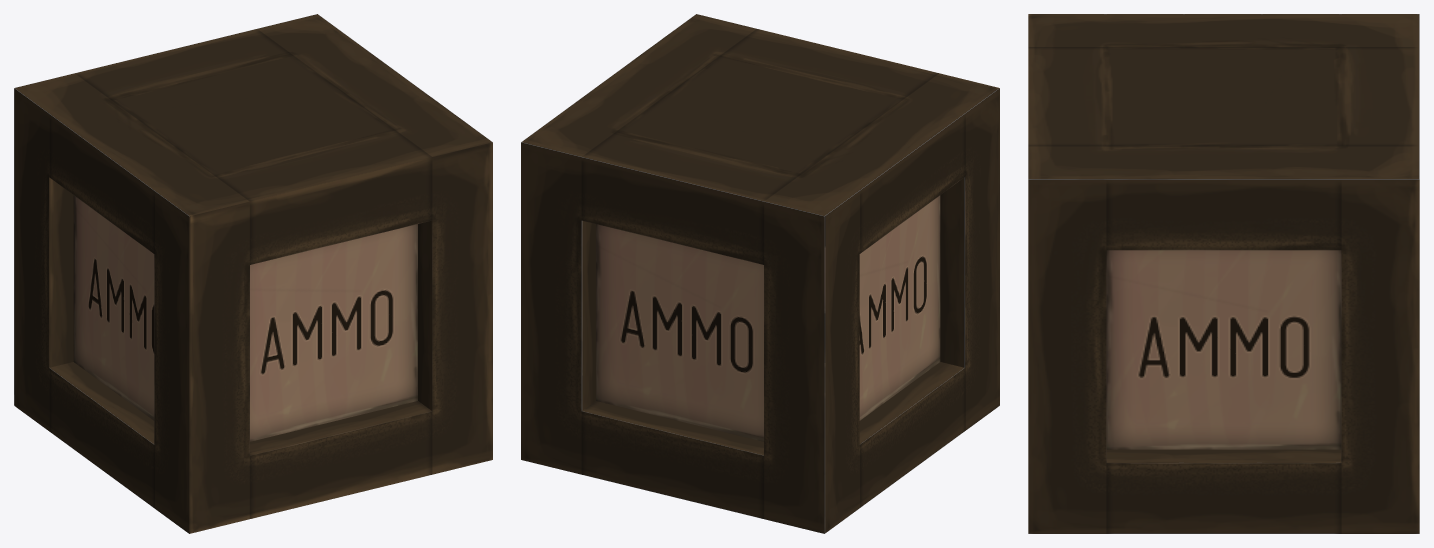
The model's file is Nailpack.fbx.
3 renders of one model, left to right at view 1: azimuth 30°, elevation 25°; view 2: azimuth 150°, elevation 25°; view 3: azimuth 270°, elevation 25°, orthographic. The views are drawn at different scales.
Visible parts, largest first — view 1: Würfel.1; view 2: Würfel.1; view 3: Würfel.1.
Boxes of the visible parts, left/top/right/bottom form: Würfel.1: left=14, top=14, right=492, bottom=533; Würfel.1: left=521, top=14, right=999, bottom=533; Würfel.1: left=1028, top=14, right=1419, bottom=533.
Size of the model in its own units: 99.6 by 99.6 by 99.6.
1 material, 1 textured.
